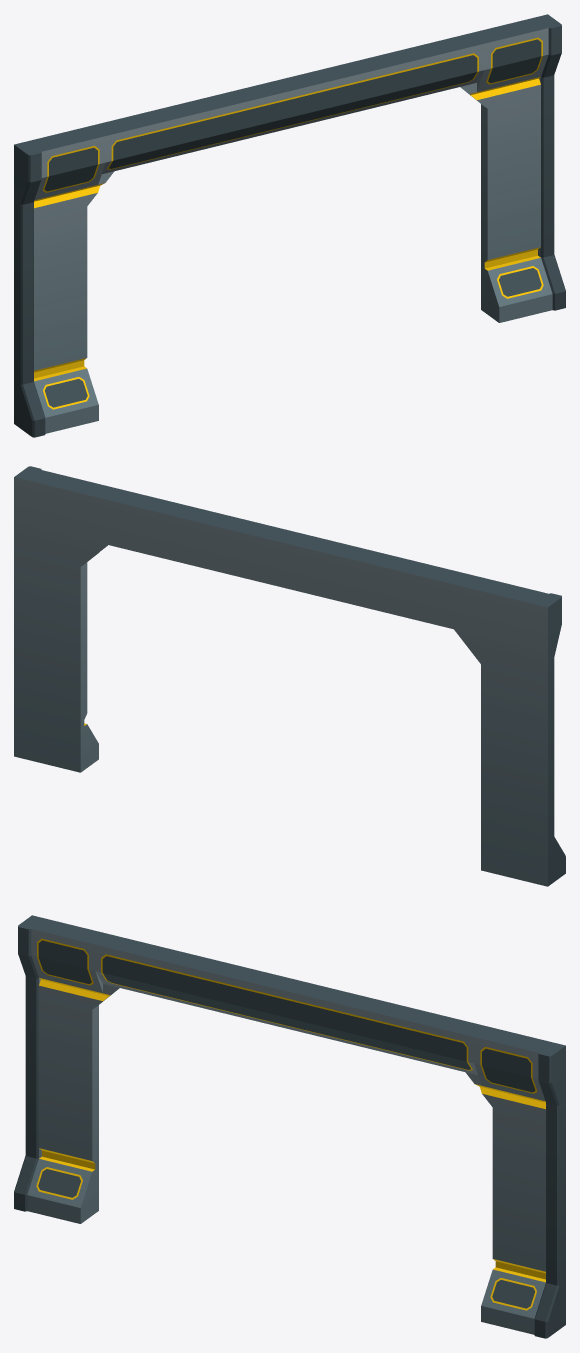
Rendered from Wall_type_C_063.fbx.
3 renders of one model, top to bottom at view 1: azimuth 30°, elevation 25°; view 2: azimuth 150°, elevation 25°; view 3: azimuth 330°, elevation 25°, orthographic.
Parts seen in each view (by area): view 1: Wall_type_C_063; view 2: Wall_type_C_063; view 3: Wall_type_C_063.
Part boxes in pixels (left/top/right/bottom): Wall_type_C_063: left=14, top=14, right=565, bottom=437; Wall_type_C_063: left=14, top=466, right=565, bottom=886; Wall_type_C_063: left=14, top=915, right=565, bottom=1338.
Bounding box in the file's own units: 800 × 50 × 400.
